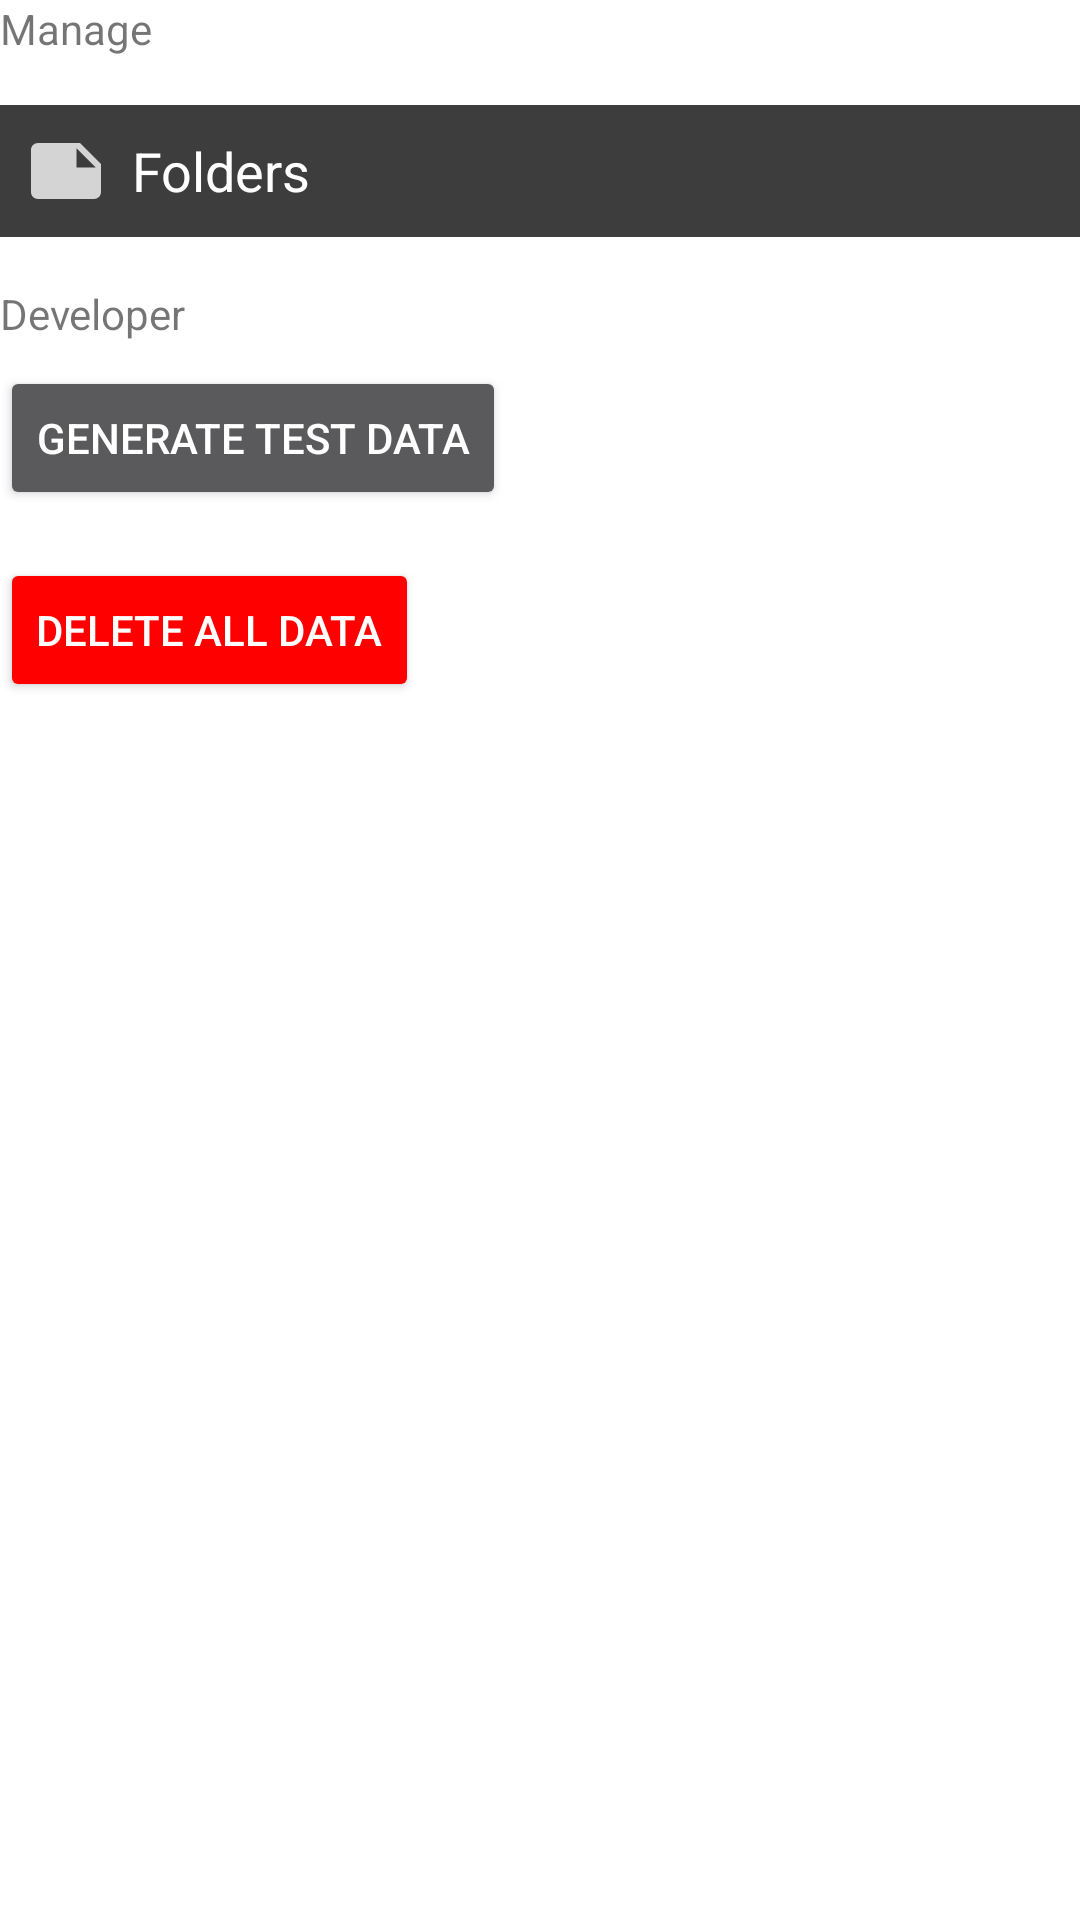

Icons on this 1080×1920 Android screen, each with the point to tap as [x,y]:
note: [66,171]
